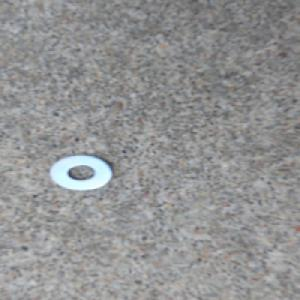Washer: (48, 152, 118, 193)
